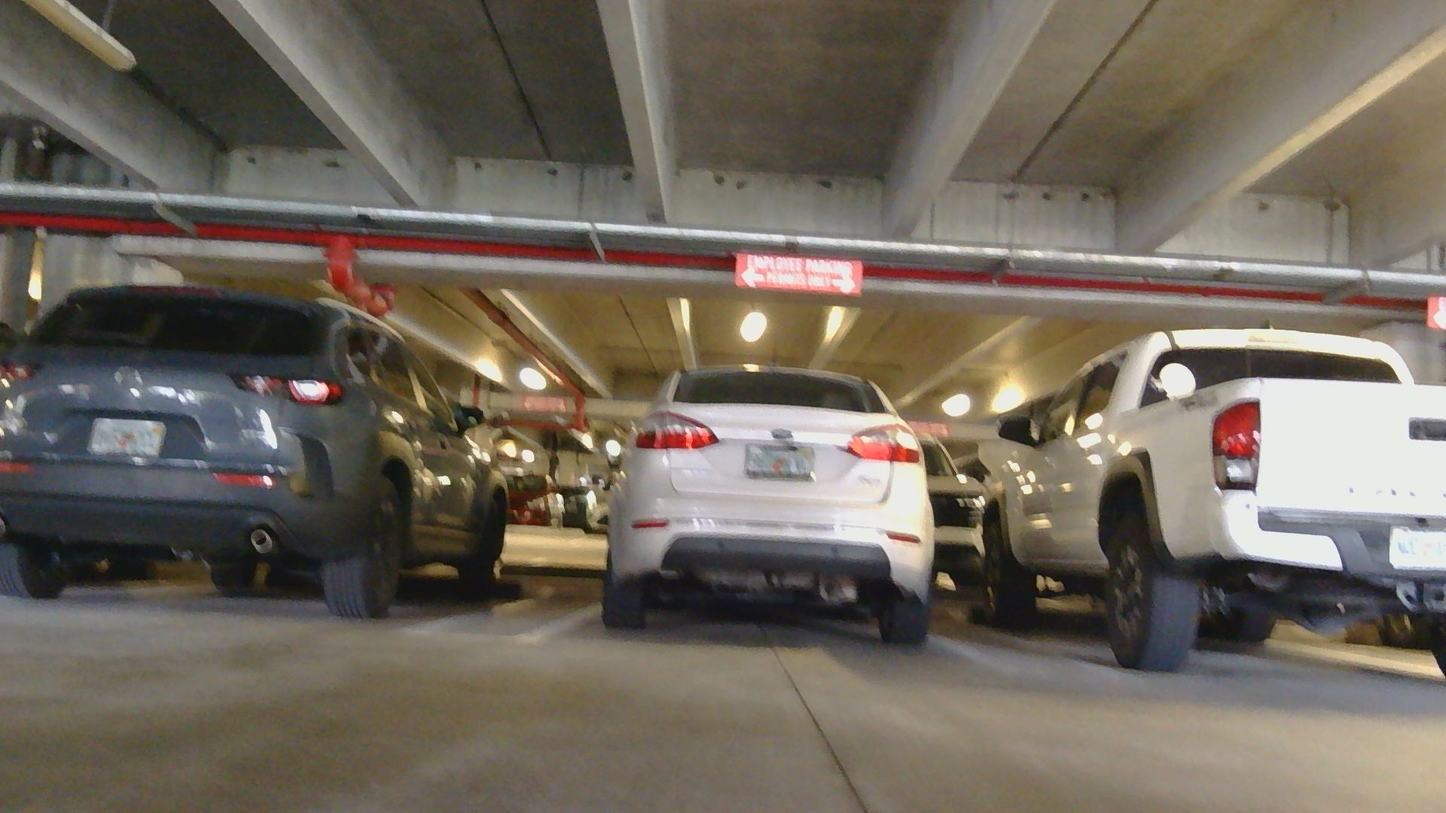occupied_spot: (0, 269, 528, 633), (969, 326, 1446, 684), (596, 348, 966, 658)
